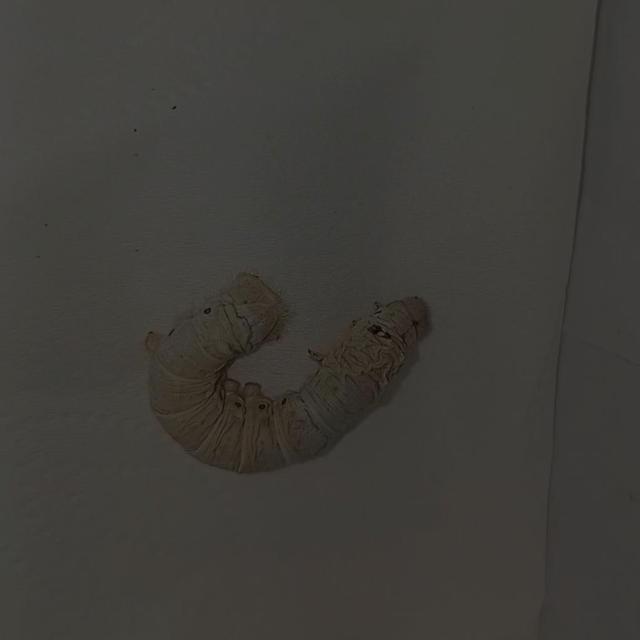Healthy: (139, 256, 433, 484)
